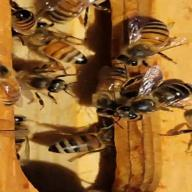Bee: (111, 12, 179, 67), (115, 80, 192, 124), (44, 127, 126, 164), (24, 30, 96, 68), (47, 0, 91, 27)
